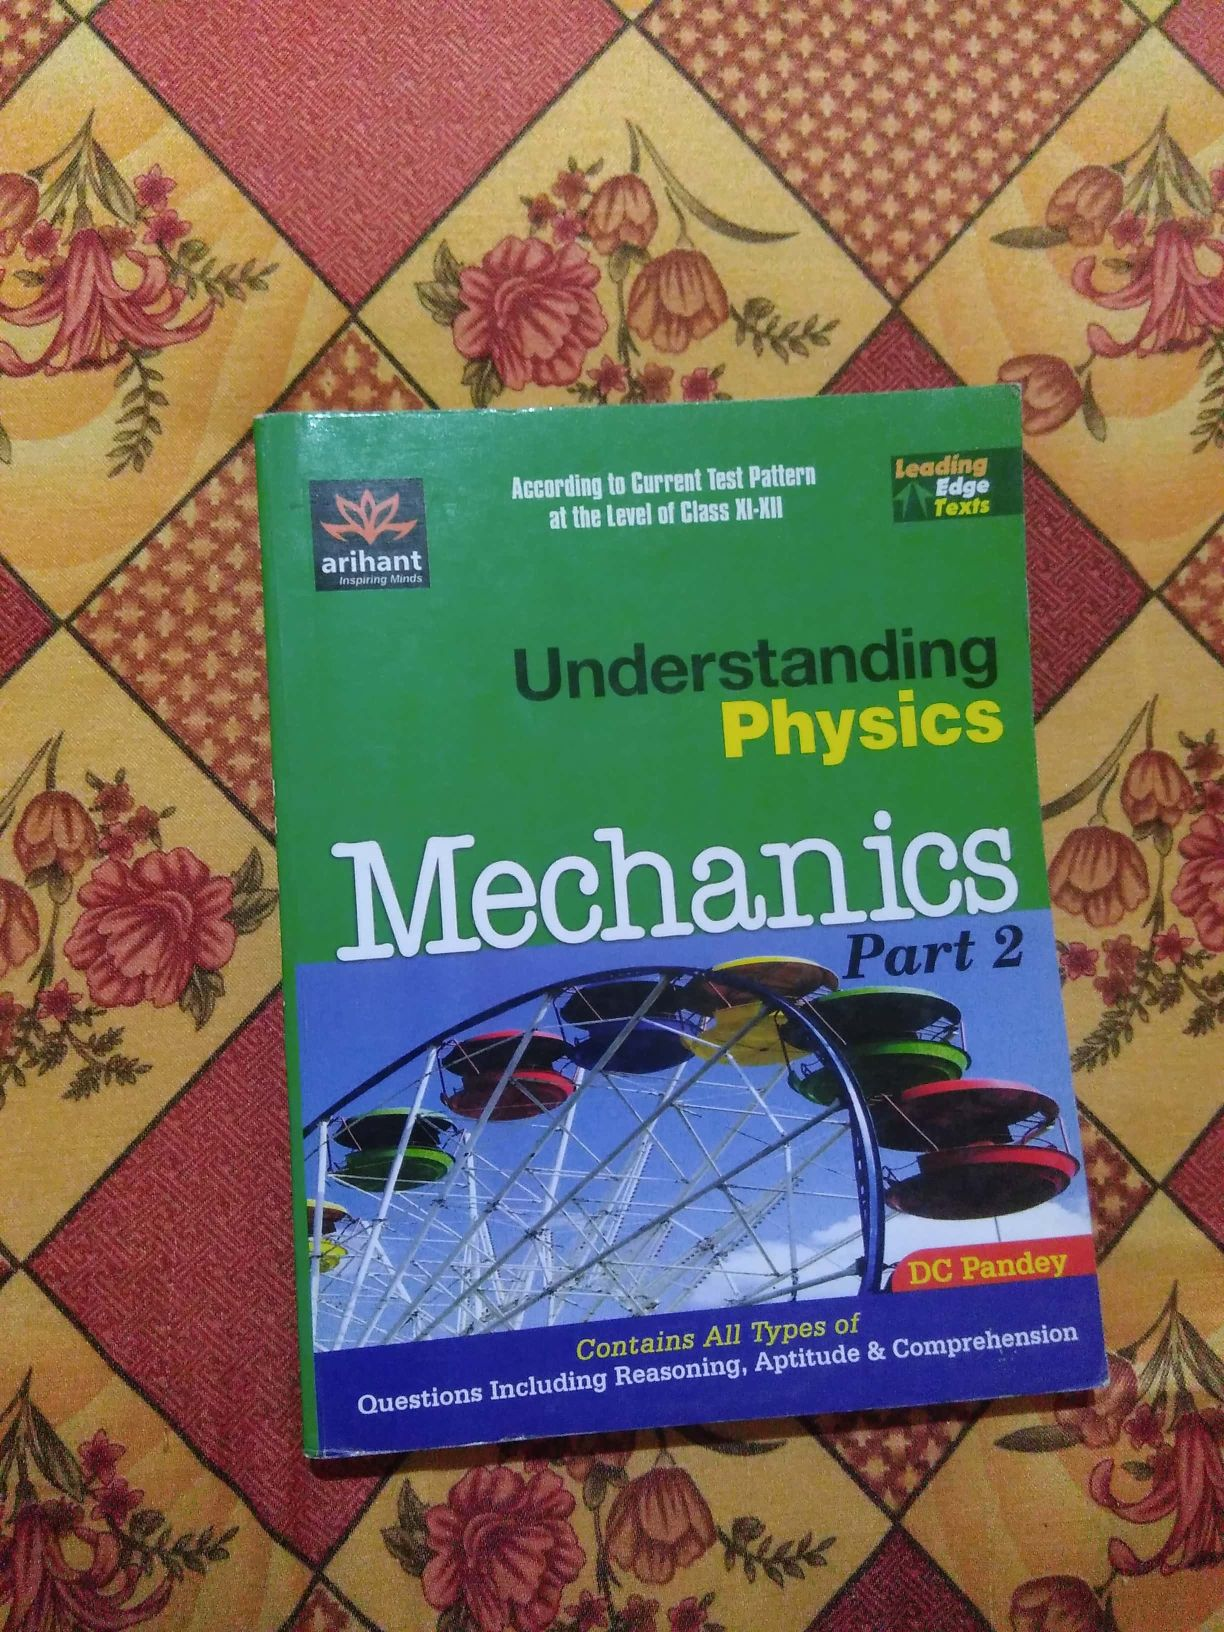mechanics: (192, 370, 1137, 1483)
